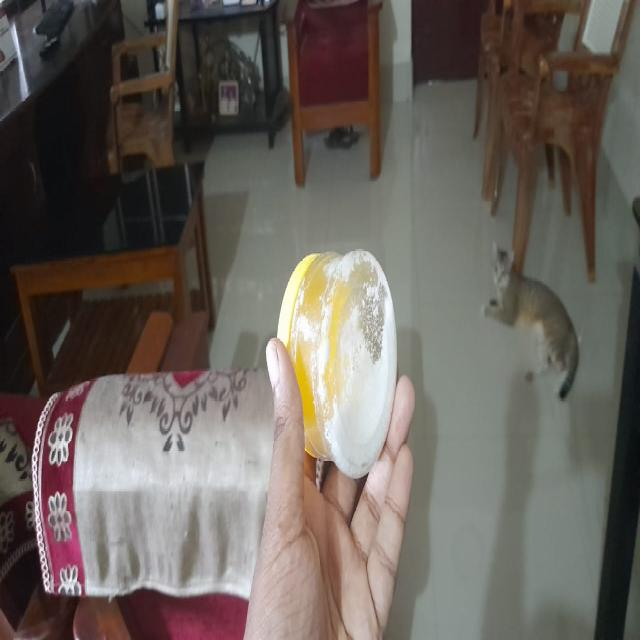Plastic - Recyclable: (276, 246, 398, 480)
